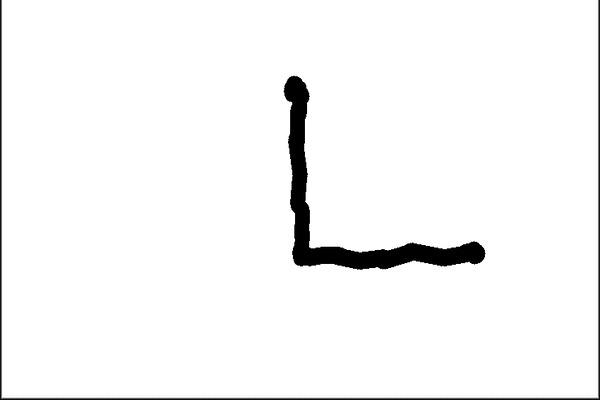L: (277, 70, 490, 281)
